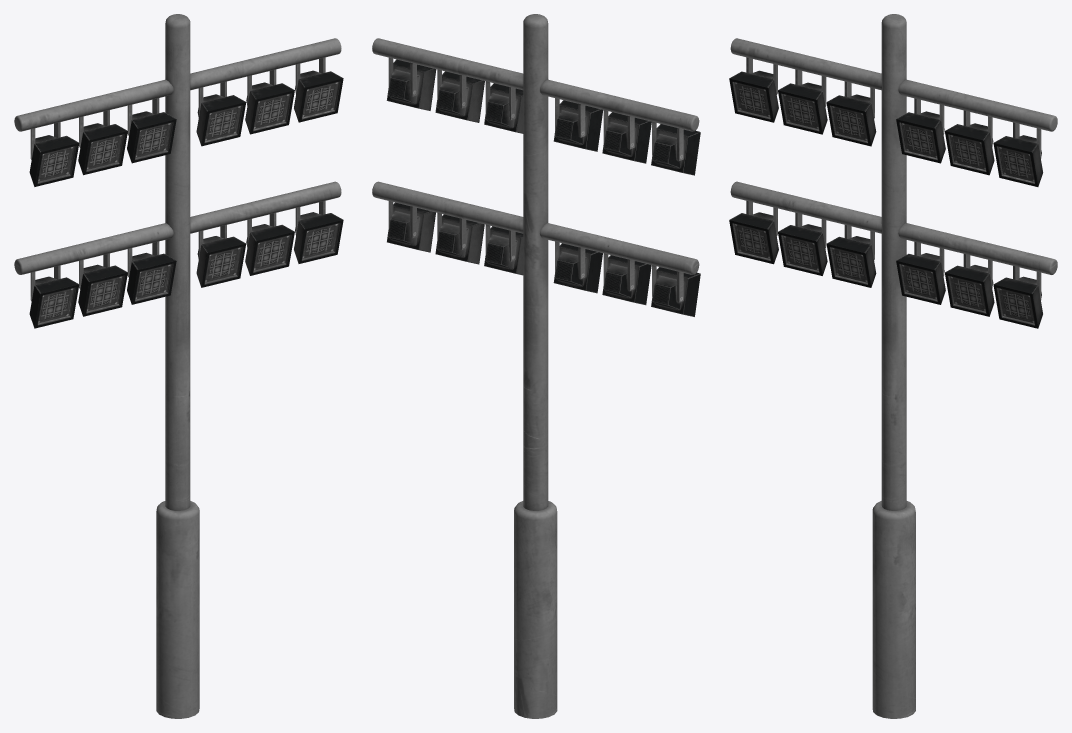
The model's file is SM_Reflectors_A.fbx.
The picture shows the model from 3 angles, left to right: view 1: azimuth 30°, elevation 25°; view 2: azimuth 150°, elevation 25°; view 3: azimuth 330°, elevation 25°; orthographic projection.
Parts seen in each view (by area): view 1: SM_Reflectors_A_LOD0; view 2: SM_Reflectors_A_LOD0; view 3: SM_Reflectors_A_LOD0.
Boxes of the visible parts, x1,y1,x2,y2 form: SM_Reflectors_A_LOD0: (14,14,343,718); SM_Reflectors_A_LOD0: (372,14,700,718); SM_Reflectors_A_LOD0: (729,14,1057,718).
Size of the model in its own units: 554 by 74.08 by 1145.
Materials: 1 (1 with a texture image).
